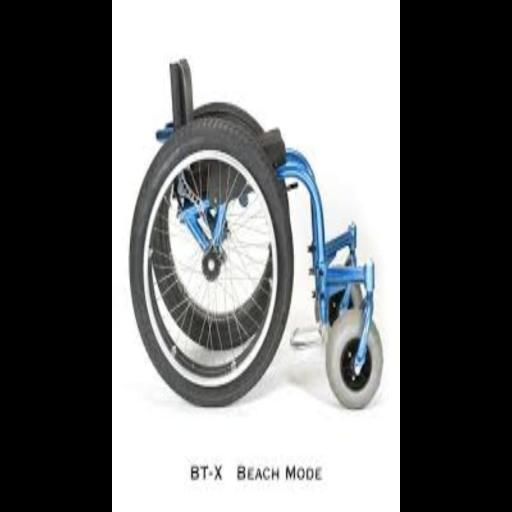cadeira_de_rodas: (129, 46, 385, 432)
